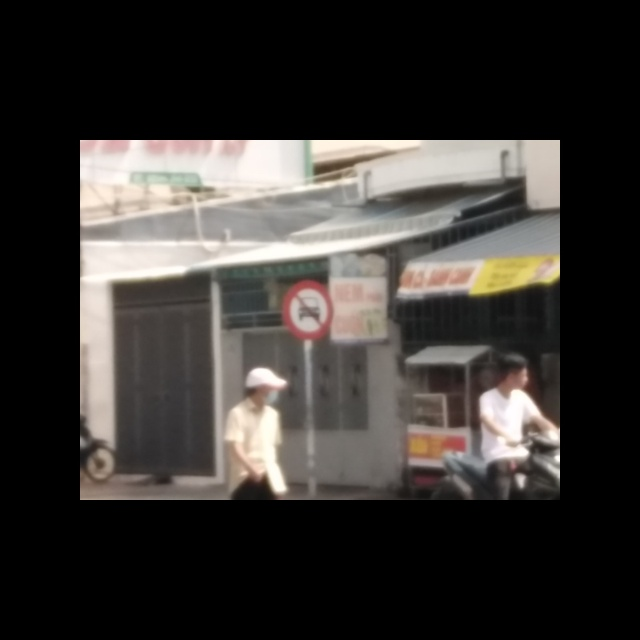Cấm xe ô tô: (281, 279, 336, 342)
